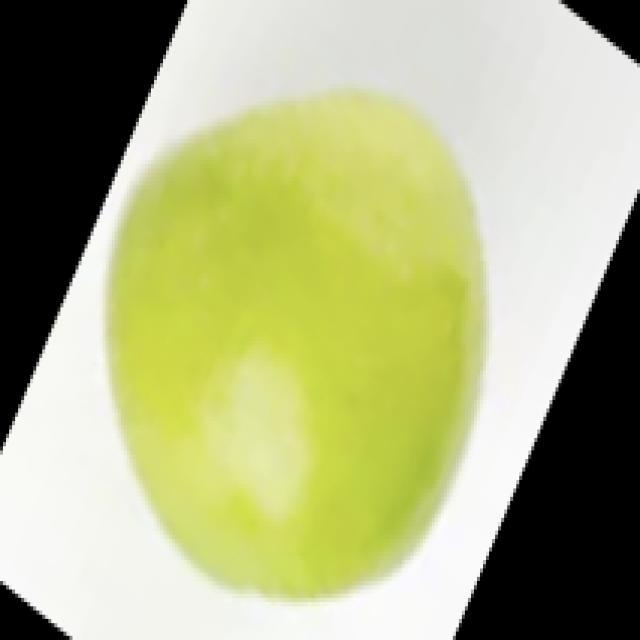Apple: (103, 86, 489, 600)
